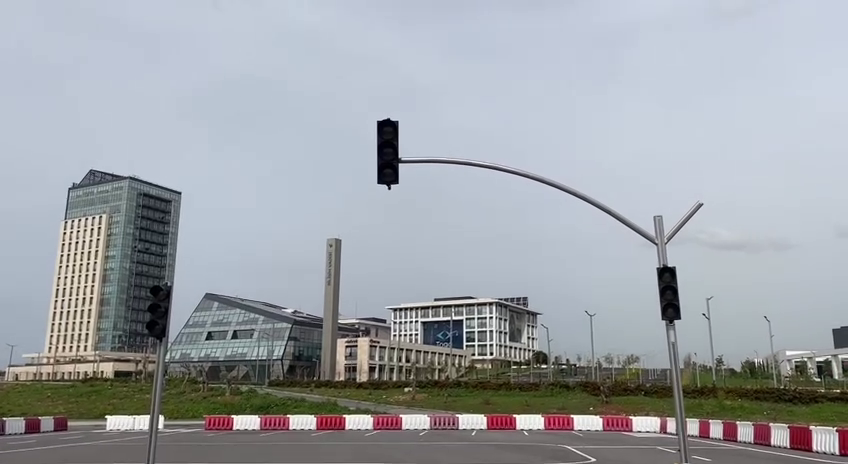trafficLight: (372, 114, 404, 191), (143, 280, 176, 343), (653, 263, 686, 326)
